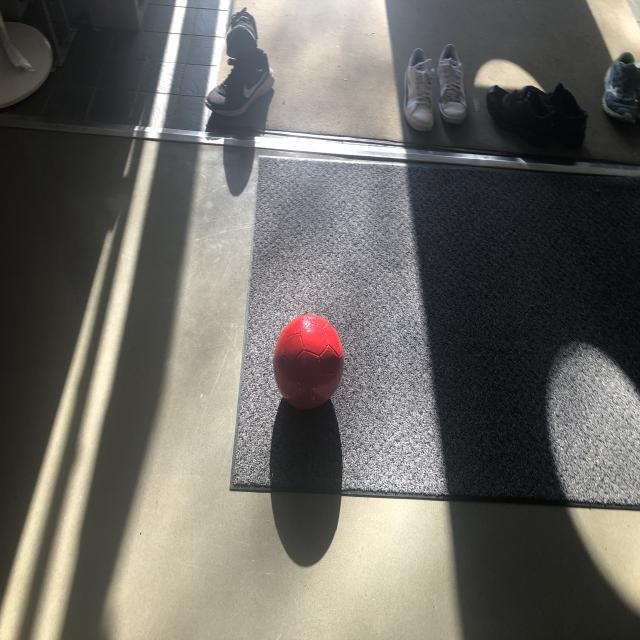red_ball: (272, 314, 346, 412)
